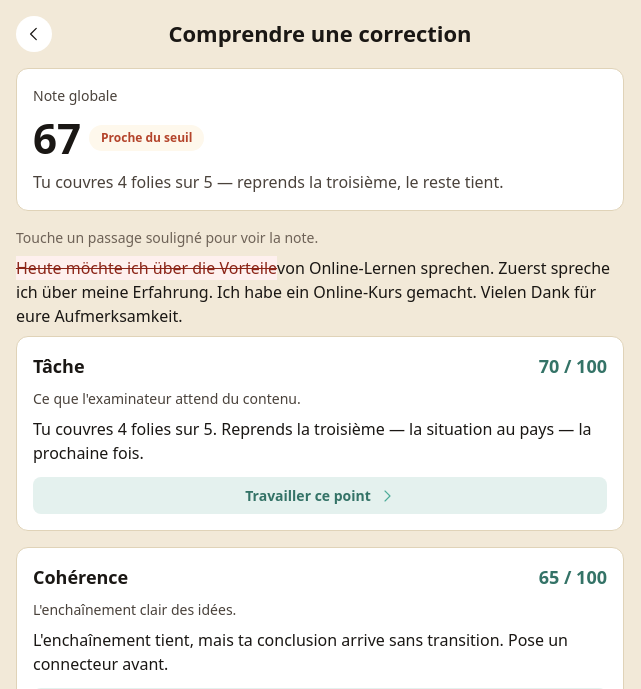
Test: CorrectionWalkthroughScreen — sprechen › clicking a highlighted span reveals the FR (and DE) justification
Click the button with test id "correction-transcript-aufgabe-highlight-0". click: (147, 268)
box: [16, 256, 277, 280]
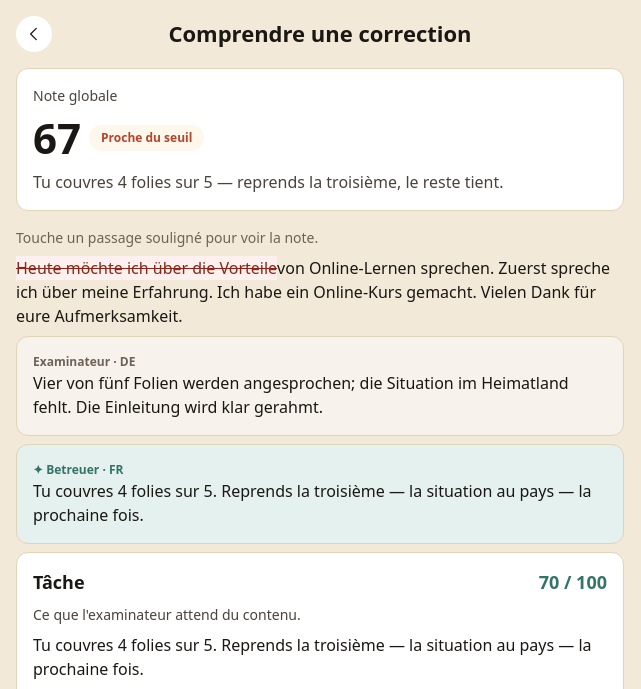
Check: the text "Tu couvres 4 folies sur 5. Reprends la troisième — la situation au pays — la prochaine fois." below "✦ Betreuer · FR" is shown, box [33, 480, 592, 526]
